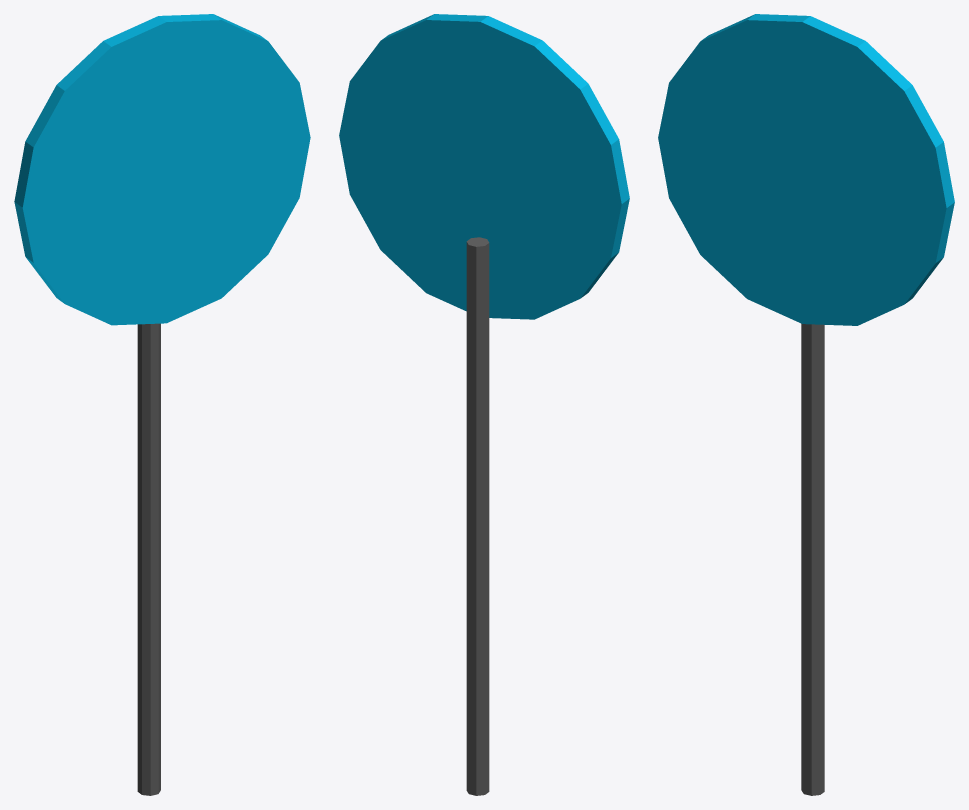
File: bus_stop_sign.fbx
3 renders of one model, left to right at view 1: azimuth 30°, elevation 25°; view 2: azimuth 150°, elevation 25°; view 3: azimuth 330°, elevation 25°, orthographic. The views are drawn at different scales.
Parts seen in each view (by area): view 1: sign, stick; view 2: sign, stick; view 3: sign, stick.
Part boxes in pixels (box(x1,y1,x2,y2)): sign: box(14, 14, 310, 325); stick: box(137, 323, 160, 795); sign: box(339, 14, 629, 319); stick: box(466, 237, 489, 795); sign: box(658, 14, 954, 325); stick: box(801, 323, 824, 795).
Bounding box in the file's own units: 100 × 258 × 11.75.
